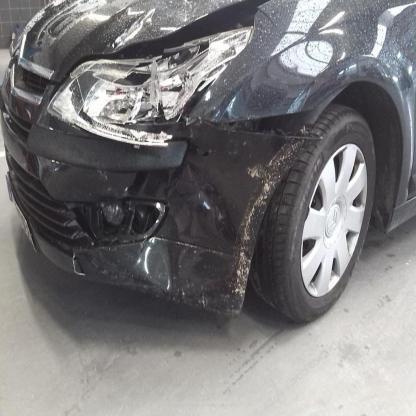front_bumper: (0, 99, 320, 312)
headlamp: (48, 25, 249, 125)
hood: (10, 0, 238, 84)
